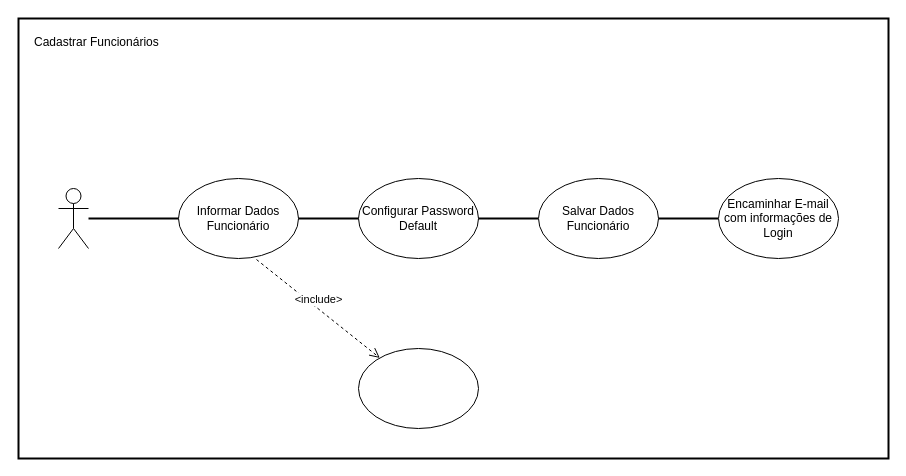
This 906x476 diagram has some shape labels left out. The centre of each missing label's shape, as x and y in pixels:
Administrador: the point at 73,218
Login Usuário: the point at 418,388
